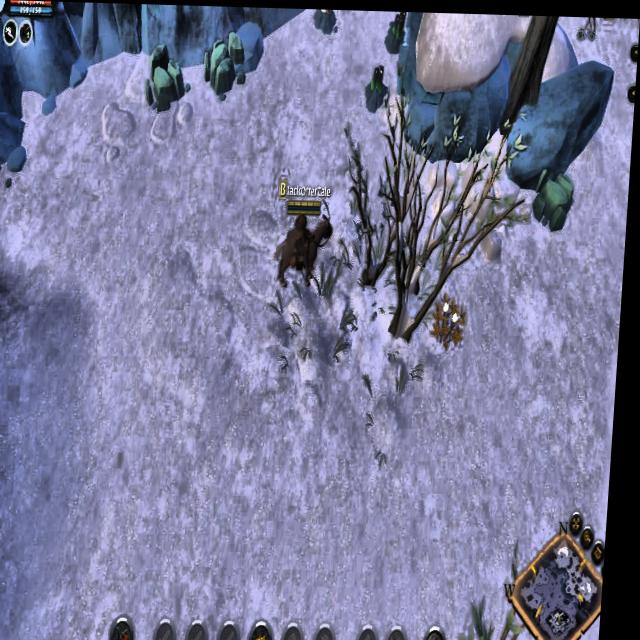copperore: (313, 7, 340, 39)
sandstone: (201, 29, 250, 105), (146, 42, 193, 115), (534, 159, 581, 228)
tinore: (362, 63, 393, 109), (383, 9, 410, 51)
